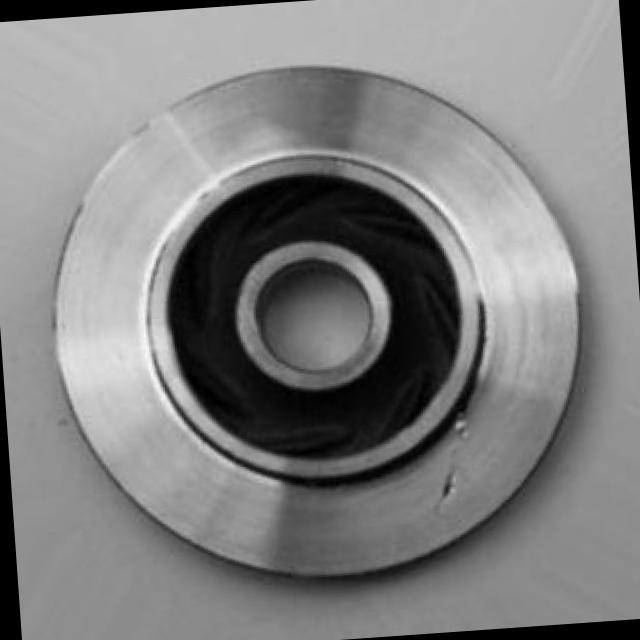Defect: (430, 463, 466, 502)
